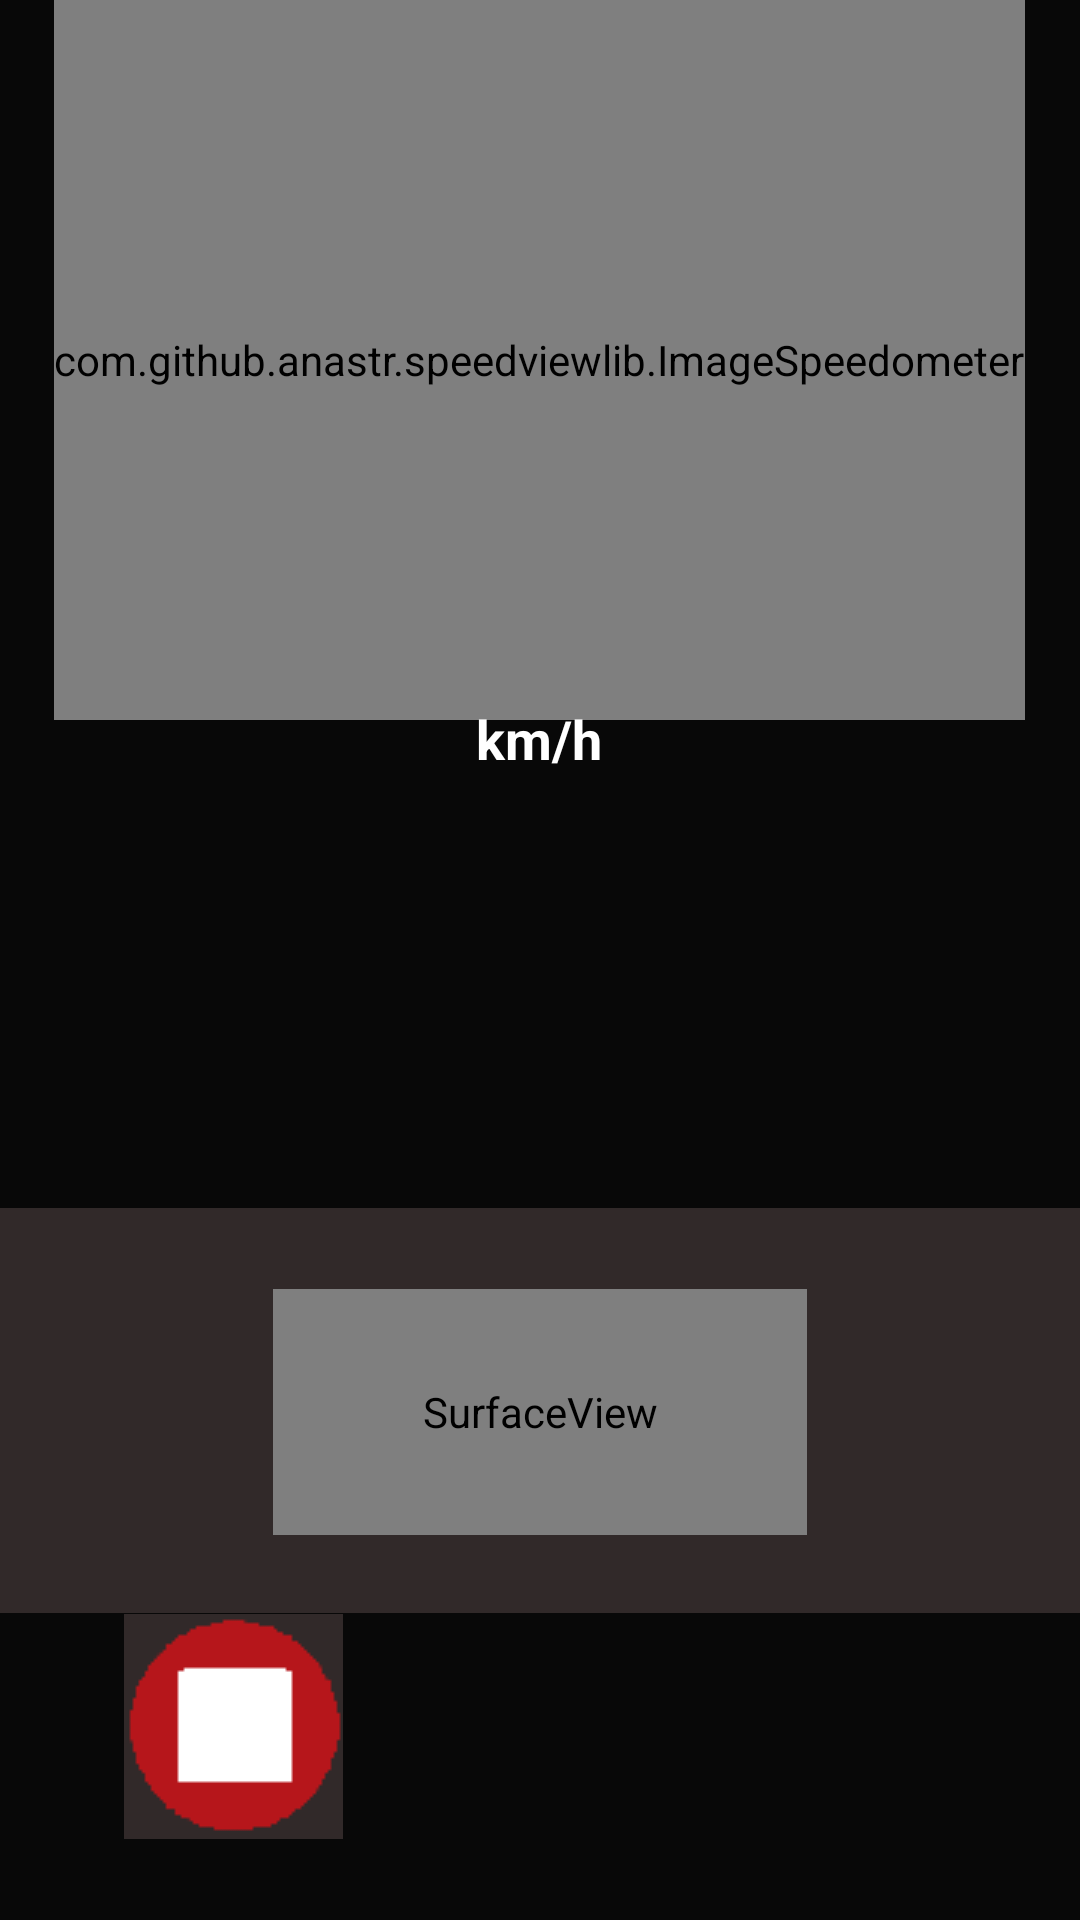

Named icons in this screenshot (1080px×1920px) and their centers, (x=x, y=y):
stopbtn: (x=233, y=1726)
